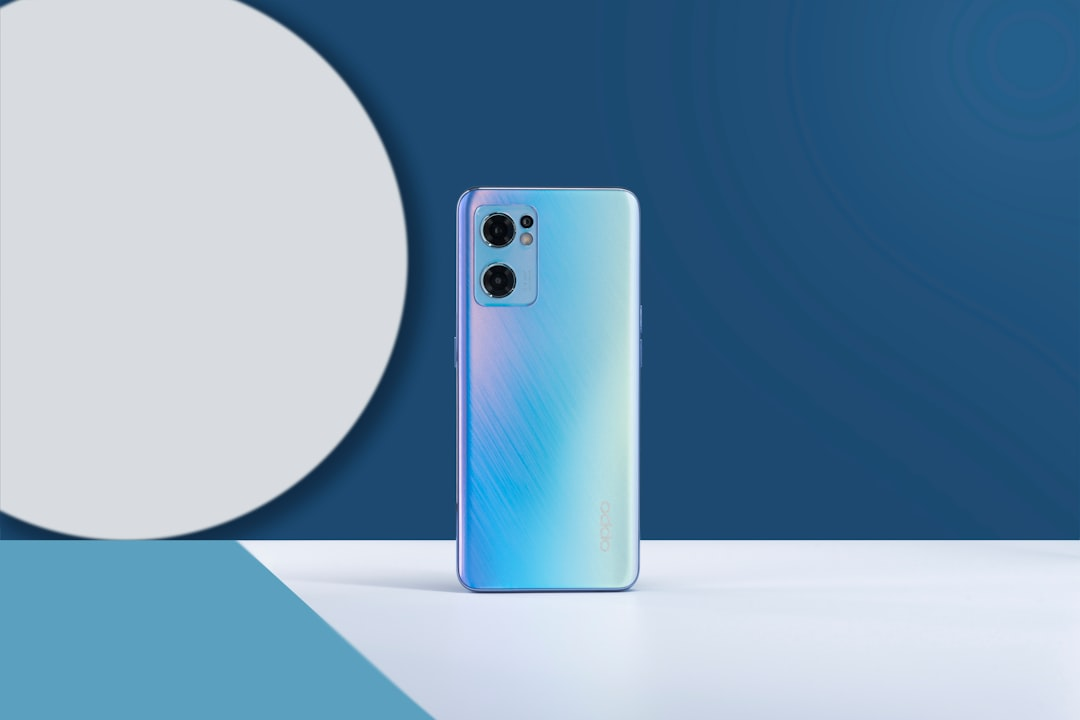phone: (455, 184, 641, 596)
